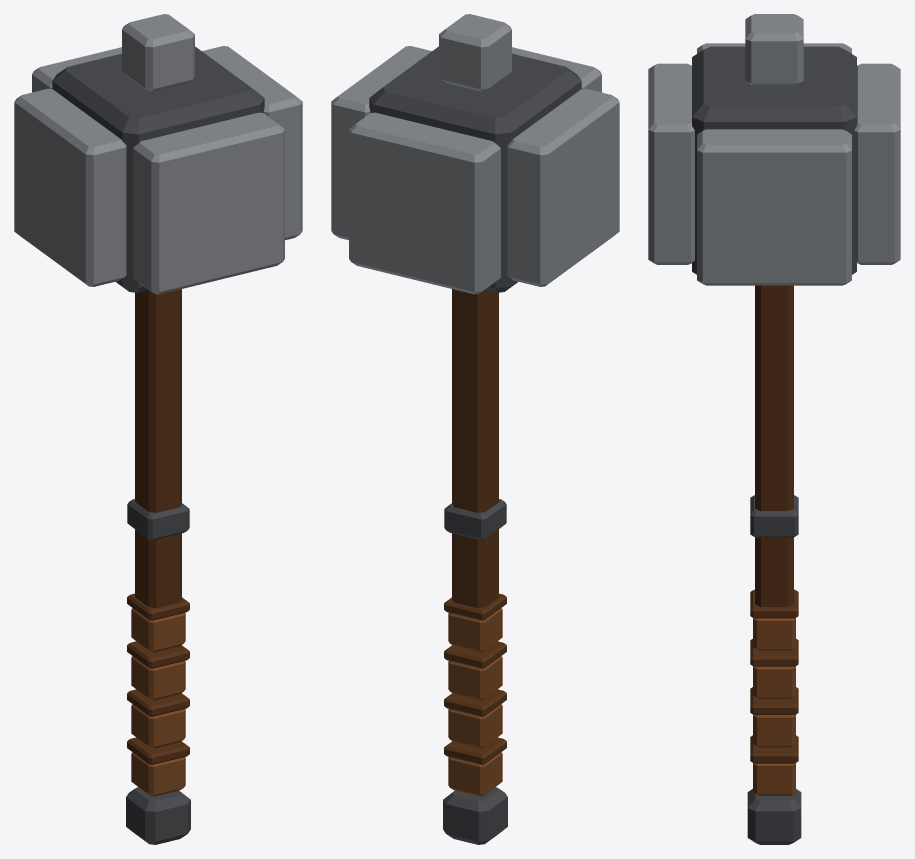
File: chopper_mace.fbx
3 renders of one model, left to right at view 1: azimuth 30°, elevation 25°; view 2: azimuth 150°, elevation 25°; view 3: azimuth 270°, elevation 25°, orthographic.
Visible parts, largest first — view 1: chopper_mace; view 2: chopper_mace; view 3: chopper_mace.
Part boxes in pixels (x1,y1,x2,y2): chopper_mace: (14,14,302,844); chopper_mace: (331,14,619,844); chopper_mace: (648,14,900,844).
Bounding box in the file's own units: 0.26 × 0.925 × 0.26.
